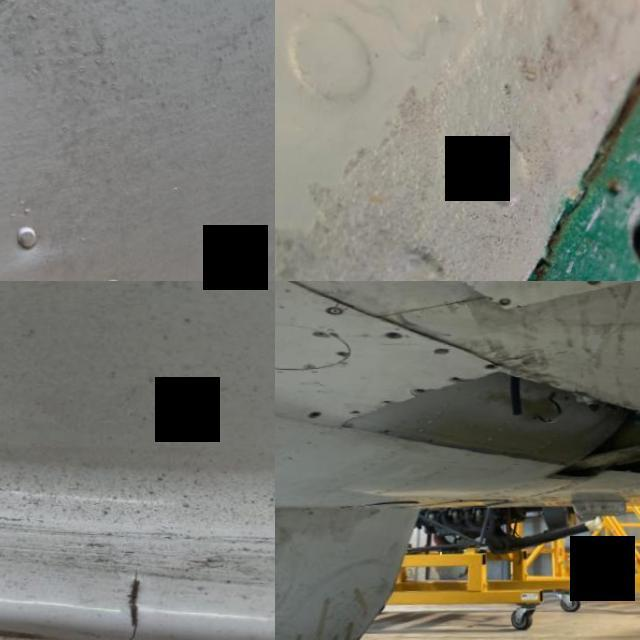Crack: (28, 480, 194, 640)
Missing_Fastener: (595, 174, 640, 281), (140, 250, 275, 281), (498, 294, 517, 306), (311, 409, 328, 420), (388, 329, 404, 338), (487, 362, 502, 371), (453, 372, 465, 382), (416, 386, 429, 393), (584, 281, 606, 285), (353, 408, 364, 414)
